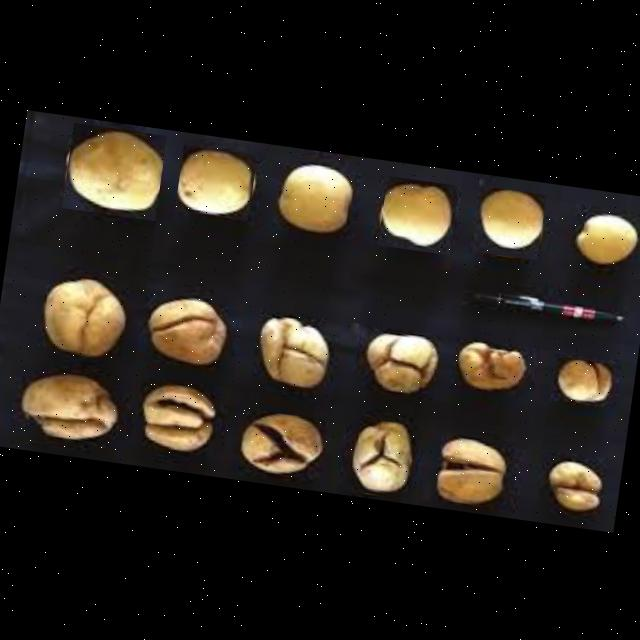Damaged potato: (10, 364, 125, 448), (36, 270, 132, 358), (130, 378, 222, 457), (230, 406, 326, 481), (143, 290, 234, 368), (252, 310, 336, 389), (432, 431, 515, 509), (342, 416, 418, 498), (359, 326, 441, 396), (544, 447, 612, 516), (549, 355, 615, 407)
Potato: (62, 122, 166, 220), (274, 156, 358, 236), (377, 175, 458, 254), (174, 144, 256, 220), (471, 185, 546, 260), (572, 204, 640, 271)
